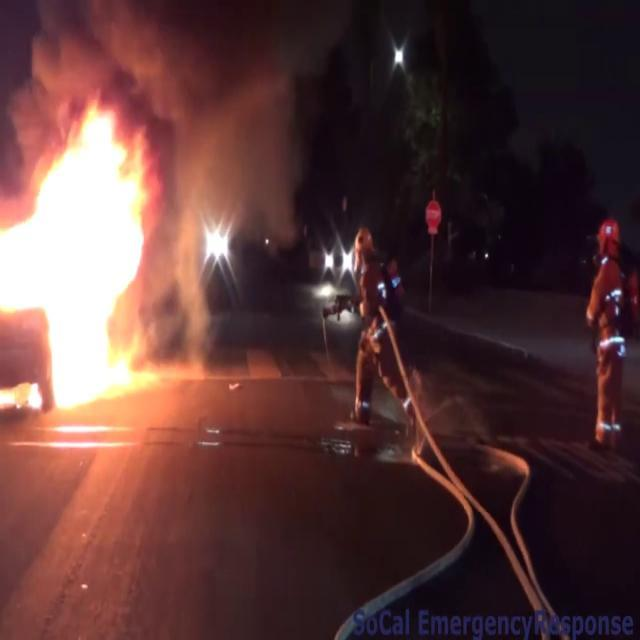Fire: (0, 98, 163, 423)
Smoke: (123, 0, 334, 228)
